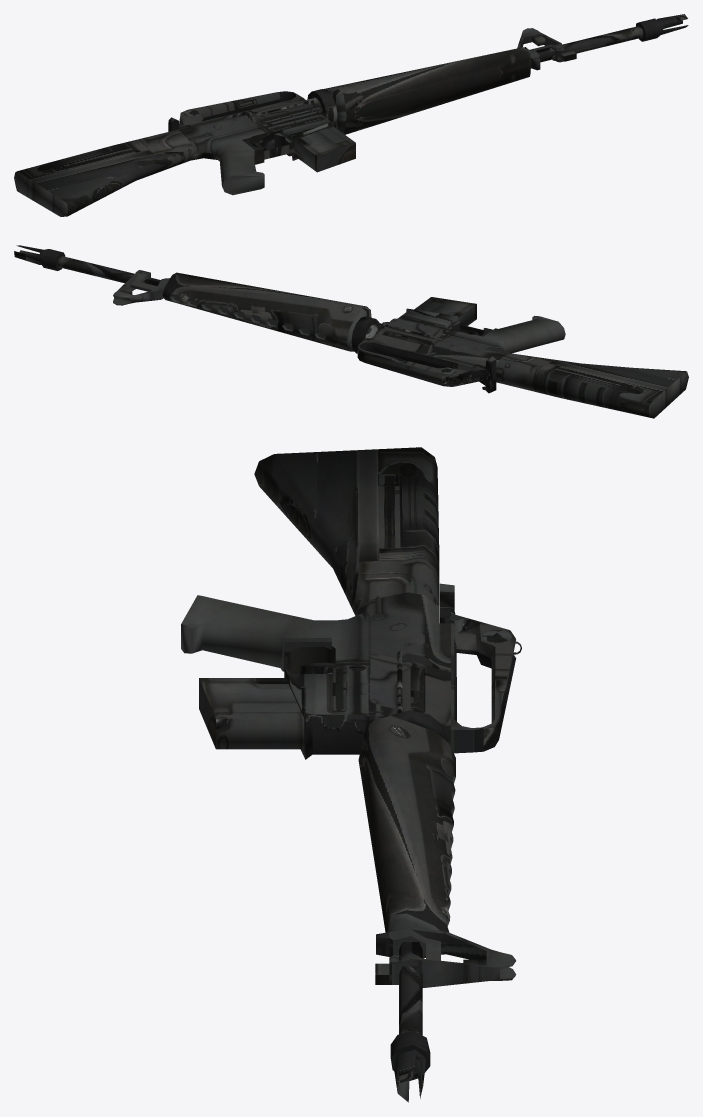
Rendered from t5_weapon_m16a1_world_clean.glb.
3 views of the same model, one above another, from view 1: azimuth 30°, elevation 25°; view 2: azimuth 150°, elevation 25°; view 3: azimuth 270°, elevation 25° (orthographic). The views are drawn at different scales.
Visible parts, largest first — view 1: t5_weapon_m16a1_world_clean; view 2: t5_weapon_m16a1_world_clean; view 3: t5_weapon_m16a1_world_clean.
Boxes of the visible parts, <box> form: t5_weapon_m16a1_world_clean: <box>14,14,688,216</box>; t5_weapon_m16a1_world_clean: <box>14,245,688,418</box>; t5_weapon_m16a1_world_clean: <box>181,447,521,1102</box>.
Bounding box in the file's own units: 0.9916 × 0.0639 × 0.2287.
Materials: 1 (1 with a texture image).
